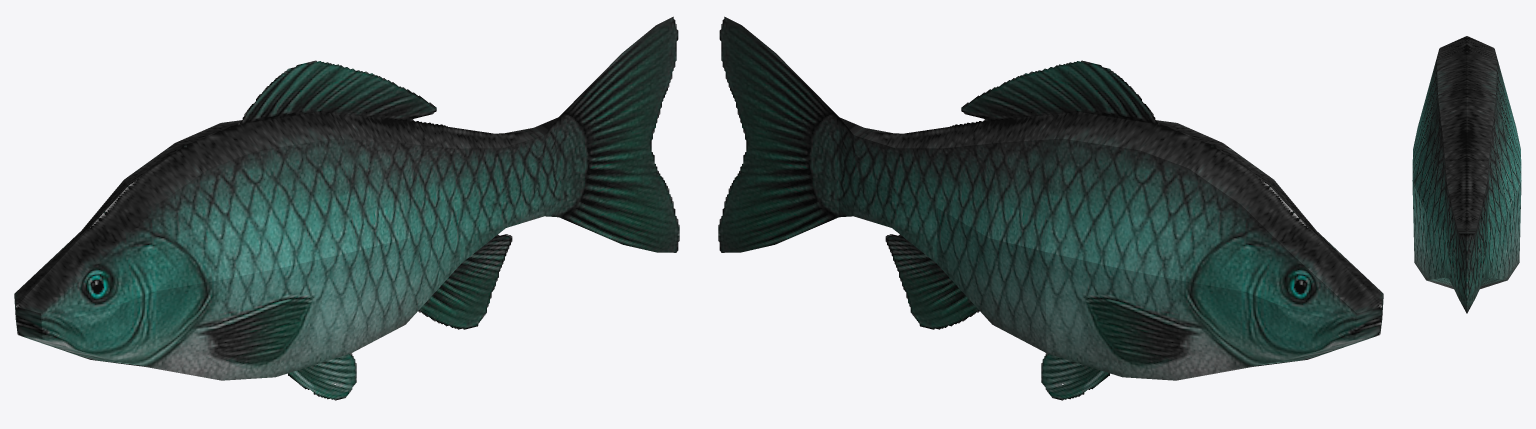
File: Fogjaw.fbx
3 views of the same model, side by side, from view 1: azimuth 30°, elevation 25°; view 2: azimuth 150°, elevation 25°; view 3: azimuth 270°, elevation 25° (orthographic). The views are drawn at different scales.
Visible parts, largest first — view 1: Carp; view 2: Carp; view 3: Carp.
Part boxes in pixels (<box>): Carp: <box>14,16,679,400</box>; Carp: <box>718,16,1383,400</box>; Carp: <box>1412,36,1521,313</box>.
Size of the model in its own units: 164 by 86.16 by 28.79.
Materials: 1 (1 with a texture image).
